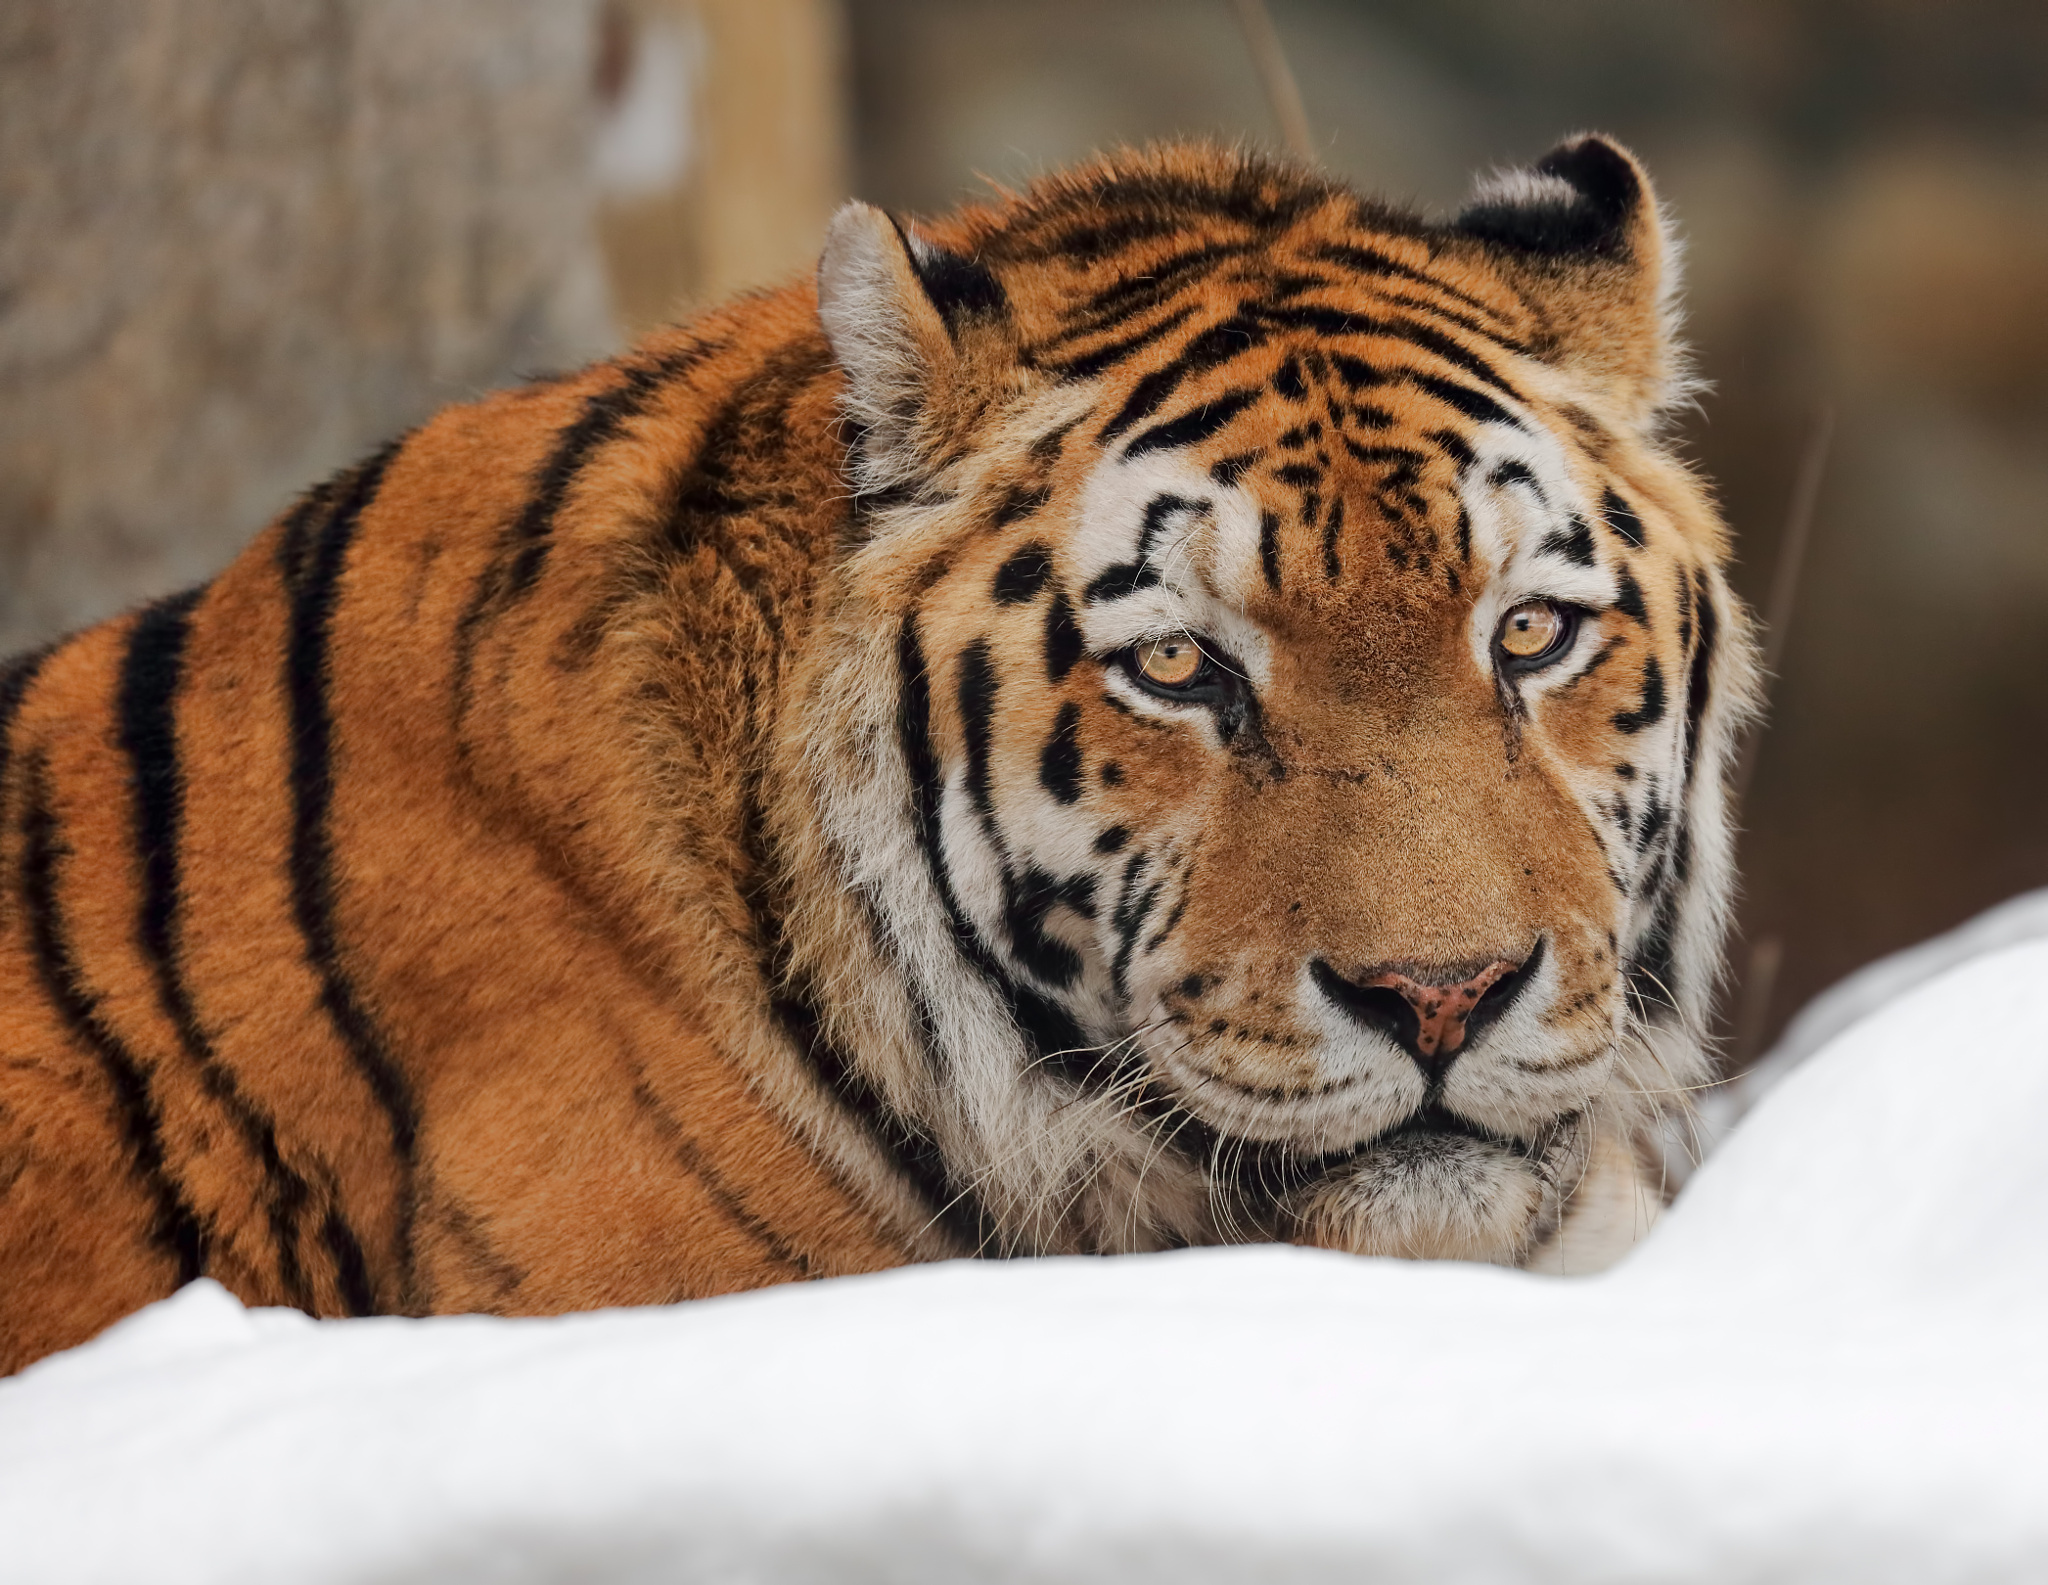tiger: (2, 145, 1764, 1341)
